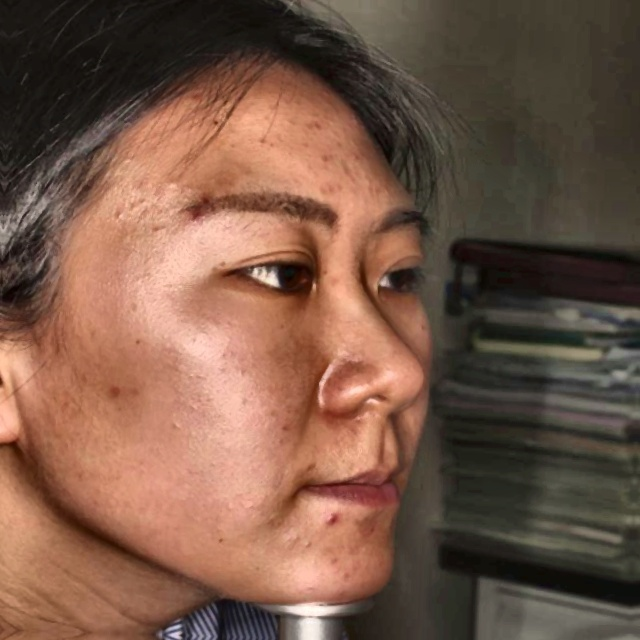comedone: (184, 197, 207, 236), (325, 506, 346, 531)
